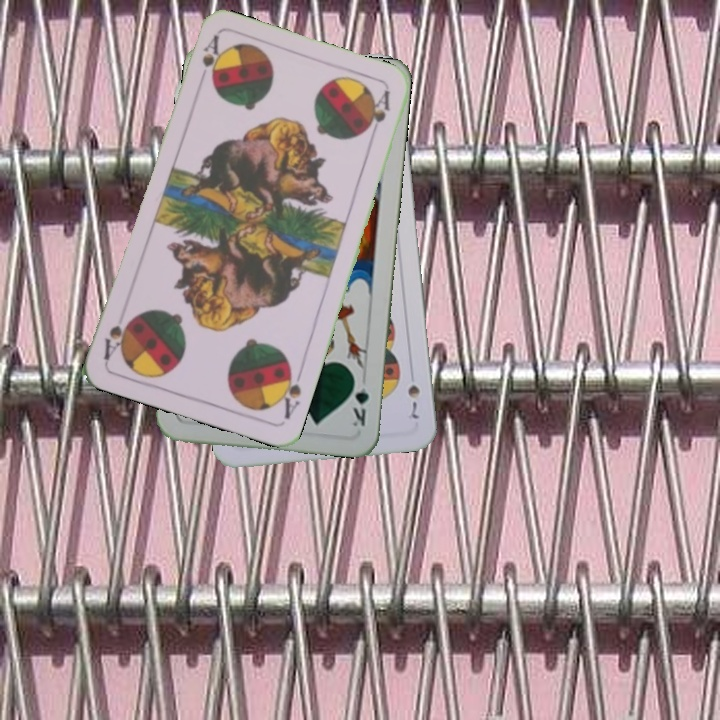GK: (347, 372, 372, 429)
S7: (403, 380, 423, 422)
SA: (273, 362, 305, 422), (193, 32, 222, 89)
